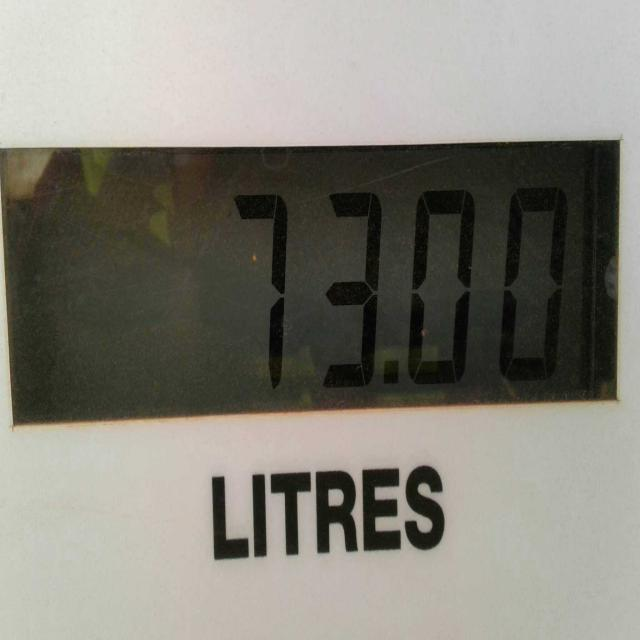.: (383, 358, 399, 388)
0: (409, 188, 474, 388), (500, 190, 565, 388)
3: (326, 195, 376, 391)
7: (233, 192, 286, 390)
